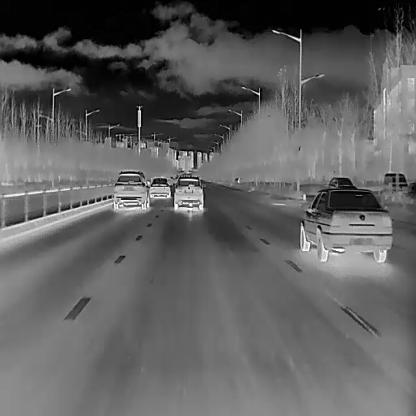car: (299, 186, 391, 262), (112, 169, 149, 209), (173, 174, 205, 210), (149, 176, 172, 198), (382, 172, 408, 190), (328, 176, 356, 188)
